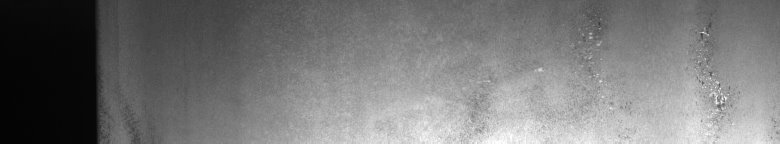hc: (690, 22, 776, 131)
